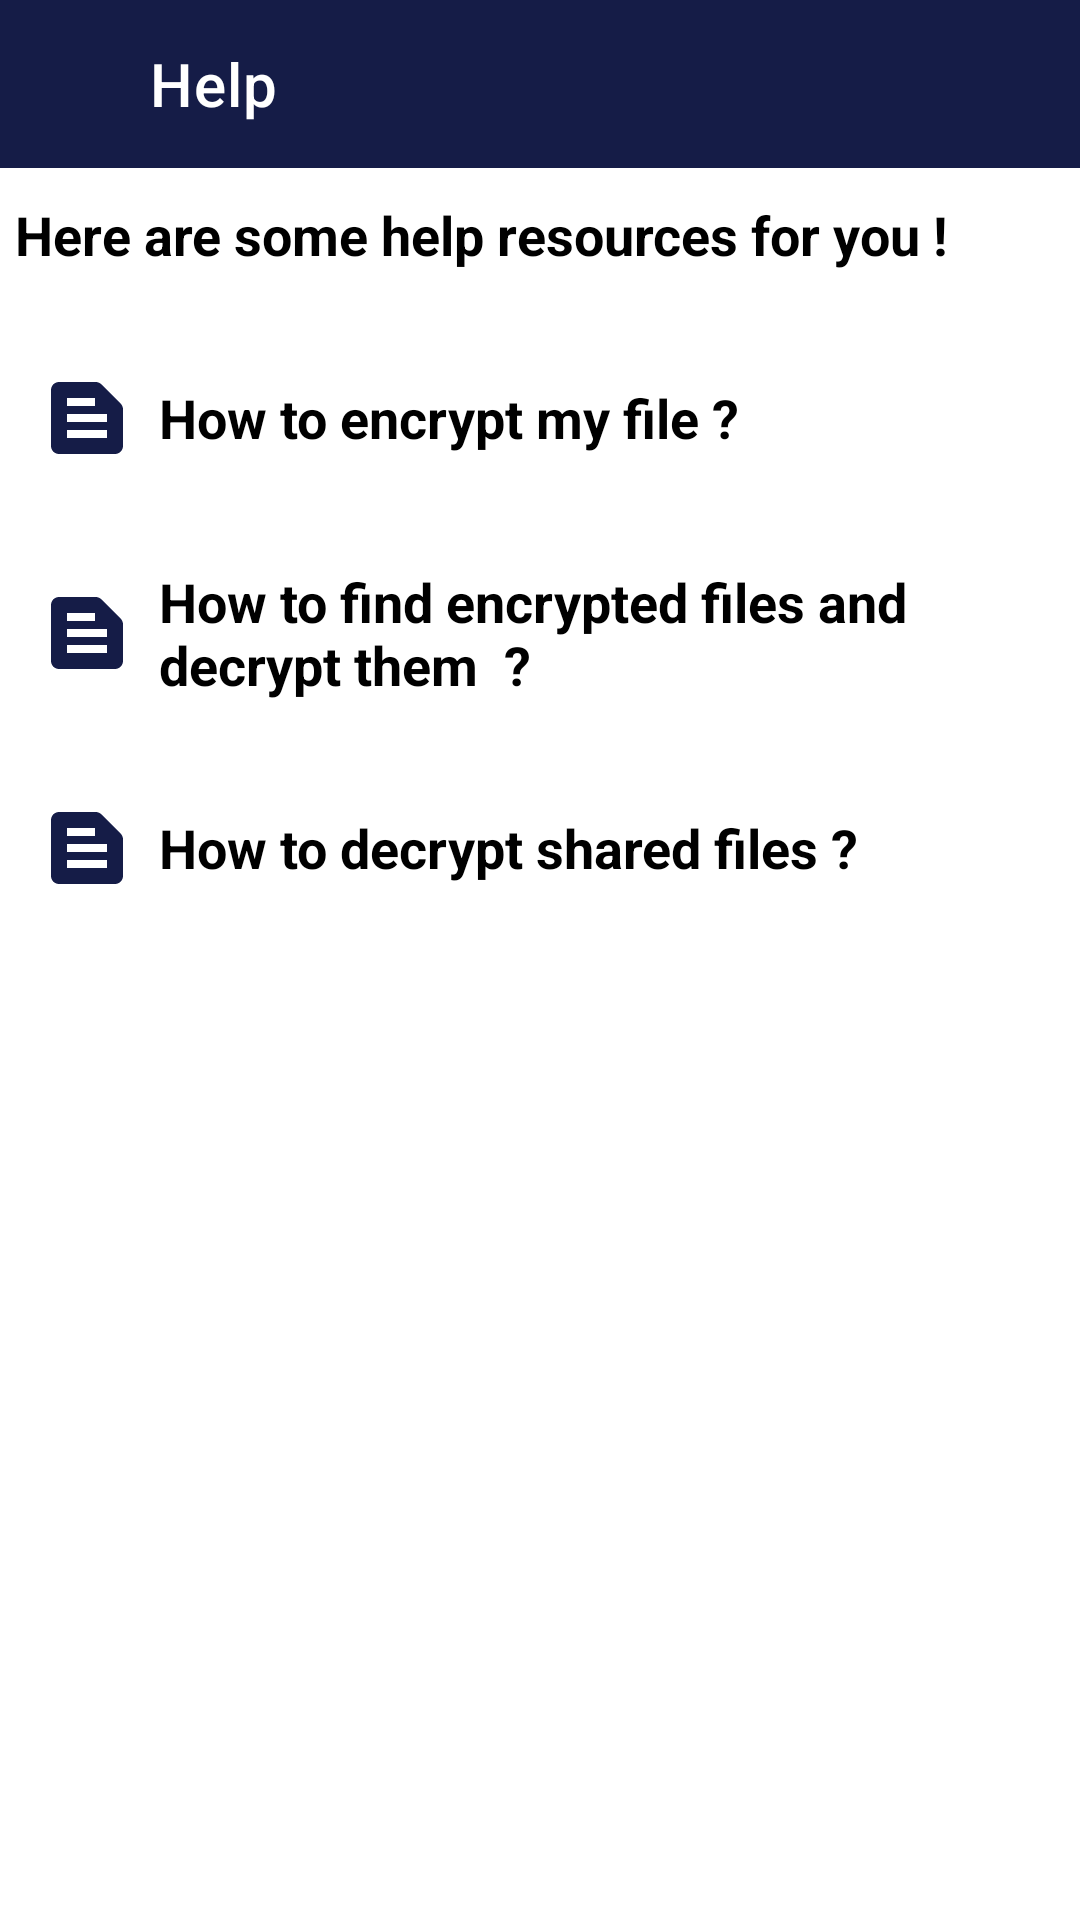

Icon bounding boxes for this 1080w x 1920h phone screenshot, format BBox(x1, y1, x2, y2):
text snippet: BBox(51, 382, 123, 454), BBox(51, 597, 123, 669), BBox(51, 812, 123, 884)
